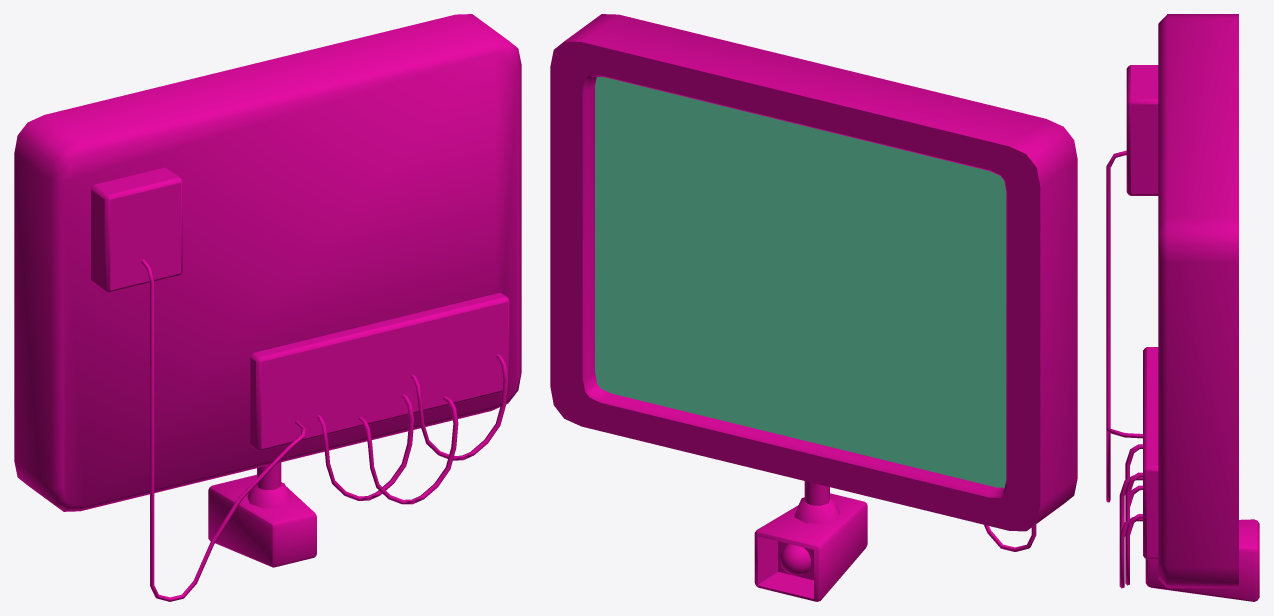
Rendered from TVwithoutBust.fbx.
3 renders of one model, left to right at view 1: azimuth 30°, elevation 25°; view 2: azimuth 150°, elevation 25°; view 3: azimuth 270°, elevation 25°, orthographic. The views are drawn at different scales.
Visible parts, largest first — view 1: Box001, Sphere001, Cylinder004; view 2: Box001, Sphere001; view 3: Box001, Sphere001, Cylinder004.
Part boxes in pixels (box(x1,y1,x2,y2)): Box001: box(14, 14, 521, 511); Sphere001: box(208, 474, 316, 567); Cylinder004: box(141, 259, 305, 601); Box001: box(550, 14, 1077, 531); Sphere001: box(754, 493, 867, 601); Box001: box(1119, 14, 1238, 588); Sphere001: box(1145, 519, 1259, 601); Cylinder004: box(1106, 150, 1142, 502).
Size of the model in its own units: 400 by 114 by 386.
